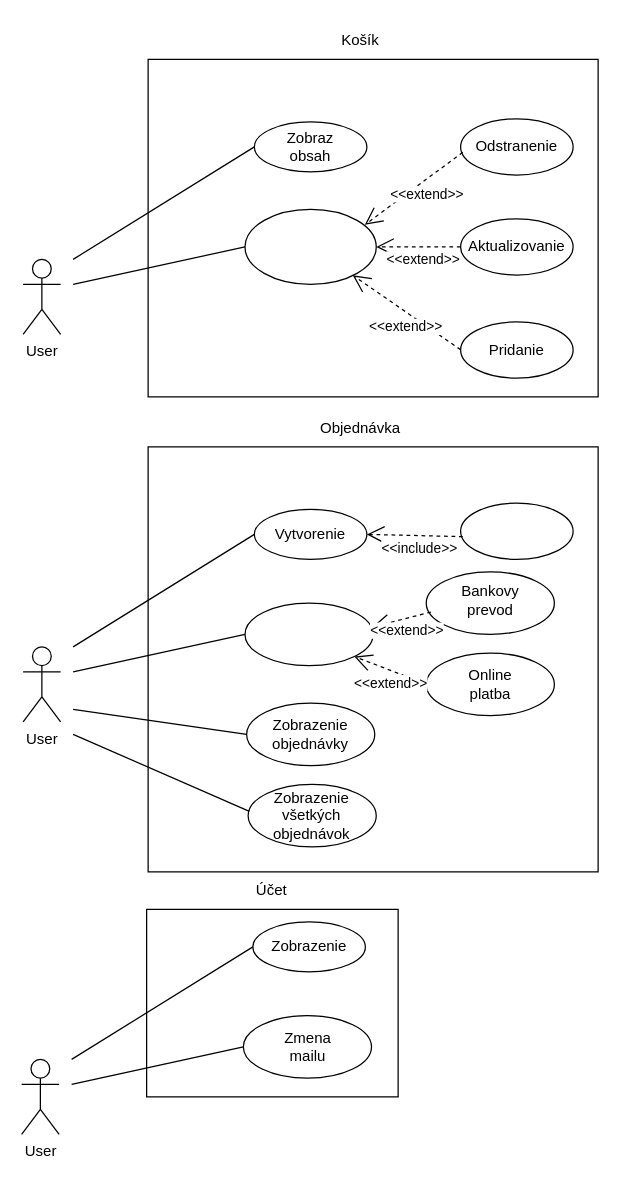
Some shapes in this 621 by 1181 pixel diagram are drawn without their labels. Each missing label, with the centre of its shape:
Kopia itemov z kosika: the point at 516,530
Nastavenie kvantity produktu: the point at 310,246
Zaplatenie: the point at 308,634
